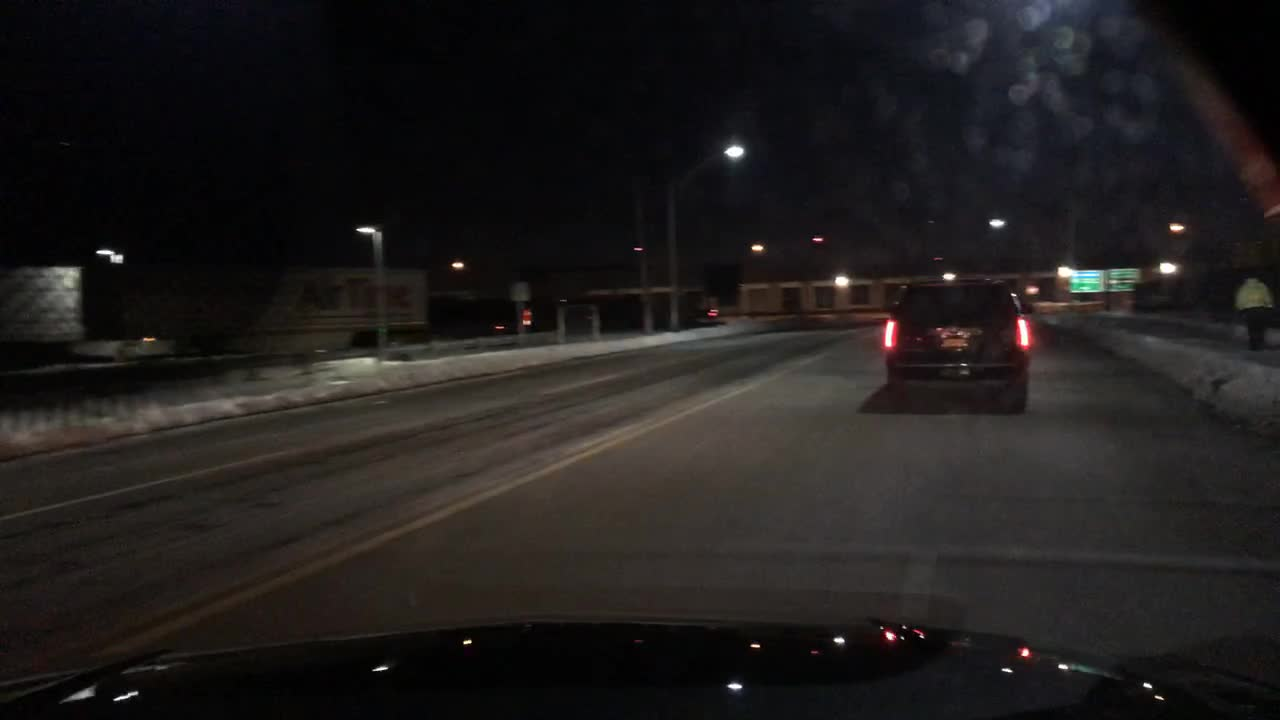car: (879, 276, 1035, 389), (494, 298, 533, 331), (684, 299, 719, 324)
person: (1233, 275, 1274, 348)
traffic sign: (1105, 267, 1140, 289), (1070, 269, 1101, 291)
